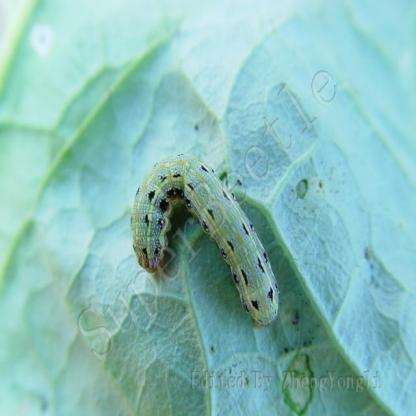armyworm: (126, 150, 278, 330)
